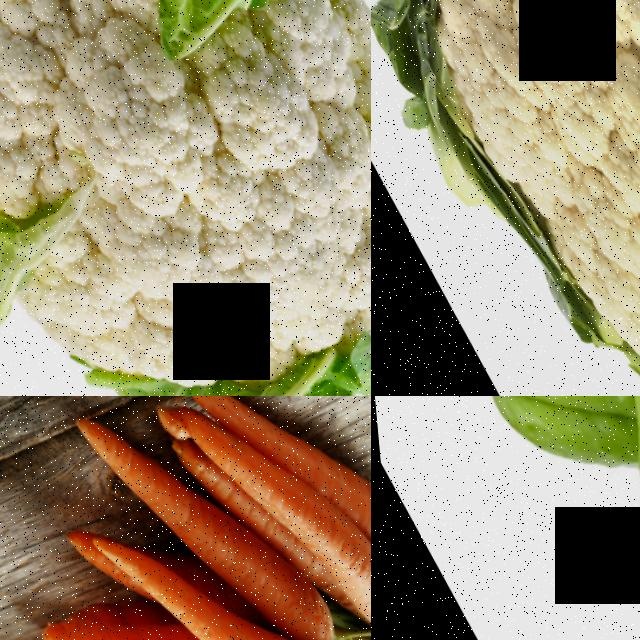carrot: (80, 396, 255, 617), (318, 504, 371, 640), (85, 599, 187, 640)
cauliflower: (0, 0, 371, 396), (371, 0, 640, 396)
chayote: (436, 396, 640, 525)
